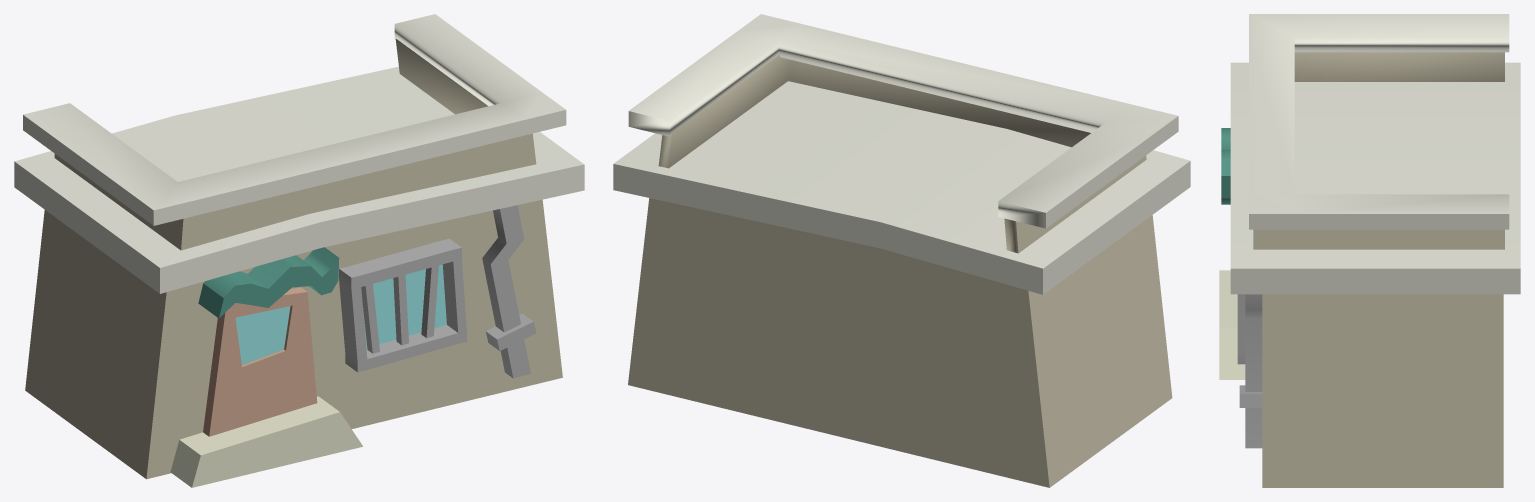
File: doghouse.fbx
3 views of the same model, side by side, from view 1: azimuth 30°, elevation 25°; view 2: azimuth 150°, elevation 25°; view 3: azimuth 270°, elevation 25° (orthographic).
Parts seen in each view (by area): view 1: pCube1, pCube9, pCube11, pCube10, pCube4, pCube5, pCube3, pCube12, pCube13, pCube8, pCube14, pCube7 (+1 smaller); view 2: pCube1, pCube9, pCube11, pCube10; view 3: pCube1, pCube9, pCube11, pCube10, pCube13, pCube3, pCube12, pCube5, pCube14.
Part boxes in pixels (box(x1,y1,x2,y2)): pCube1: box(25, 199, 562, 479); pCube9: box(14, 66, 584, 293); pCube11: box(23, 14, 566, 225); pCube10: box(54, 39, 536, 250); pCube4: box(203, 287, 317, 436); pCube5: box(339, 238, 466, 372); pCube3: box(170, 396, 362, 487); pCube12: box(198, 247, 339, 318); pCube13: box(482, 205, 530, 378); pCube8: box(421, 265, 438, 338); pCube14: box(485, 313, 536, 350); pCube7: box(393, 275, 408, 345); pCube1: box(628, 198, 1172, 487); pCube9: box(613, 81, 1190, 294); pCube11: box(628, 14, 1178, 228); pCube10: box(658, 55, 1146, 253); pCube1: box(1262, 294, 1503, 487); pCube9: box(1230, 62, 1520, 294); pCube11: box(1249, 14, 1509, 229); pCube10: box(1253, 52, 1504, 249); pCube13: box(1245, 294, 1262, 448); pCube3: box(1219, 270, 1245, 379); pCube12: box(1221, 128, 1230, 204); pCube5: box(1237, 294, 1245, 364); pCube14: box(1239, 385, 1262, 407).
Bounding box in the file's own units: 9.34 × 5.76 × 5.77.
